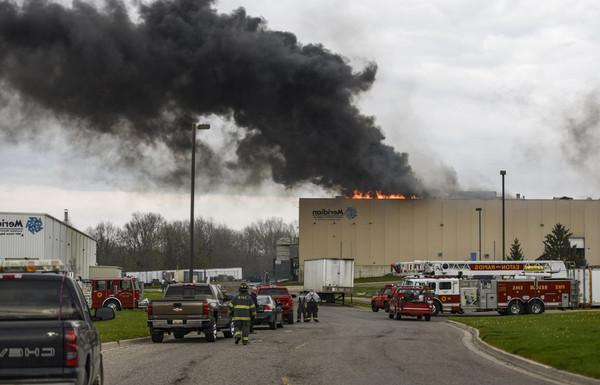fire: (344, 188, 419, 207)
